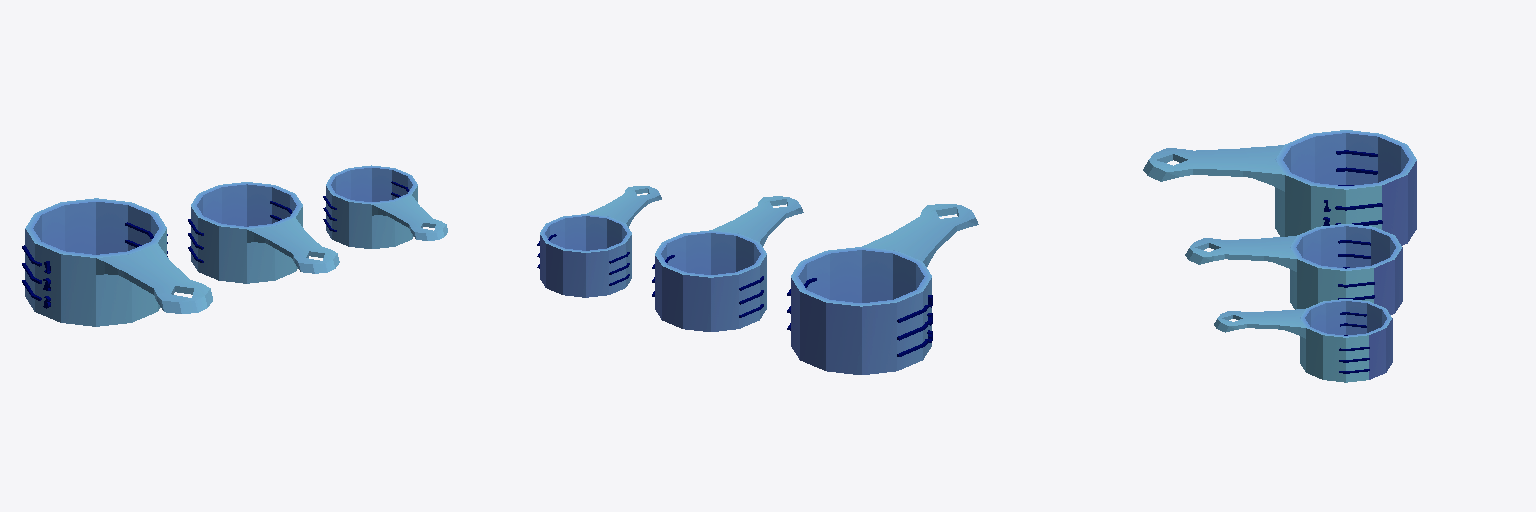
The picture shows the model from 3 angles: view 1: azimuth 30°, elevation 25°; view 2: azimuth 150°, elevation 25°; view 3: azimuth 270°, elevation 25°; orthographic projection.
Visible parts, largest first — view 1: group2 pCylinder1, pCylinder4 group2, group2 pCylinder5; view 2: group2 pCylinder1, pCylinder4 group2, group2 pCylinder5; view 3: group2 pCylinder1, pCylinder4 group2, group2 pCylinder5.
Boxes of the visible parts, x1,y1,x2,y2 form: group2 pCylinder1: [22, 198, 212, 326]; pCylinder4 group2: [188, 182, 339, 283]; group2 pCylinder5: [323, 165, 447, 248]; group2 pCylinder1: [787, 204, 978, 374]; pCylinder4 group2: [652, 196, 803, 331]; group2 pCylinder5: [537, 186, 661, 297]; group2 pCylinder1: [1143, 130, 1416, 245]; pCylinder4 group2: [1185, 224, 1402, 314]; group2 pCylinder5: [1214, 299, 1392, 382].
Size of the model in its own units: 144 by 24.81 by 89.61.
Materials: 2 (1 with a texture image).